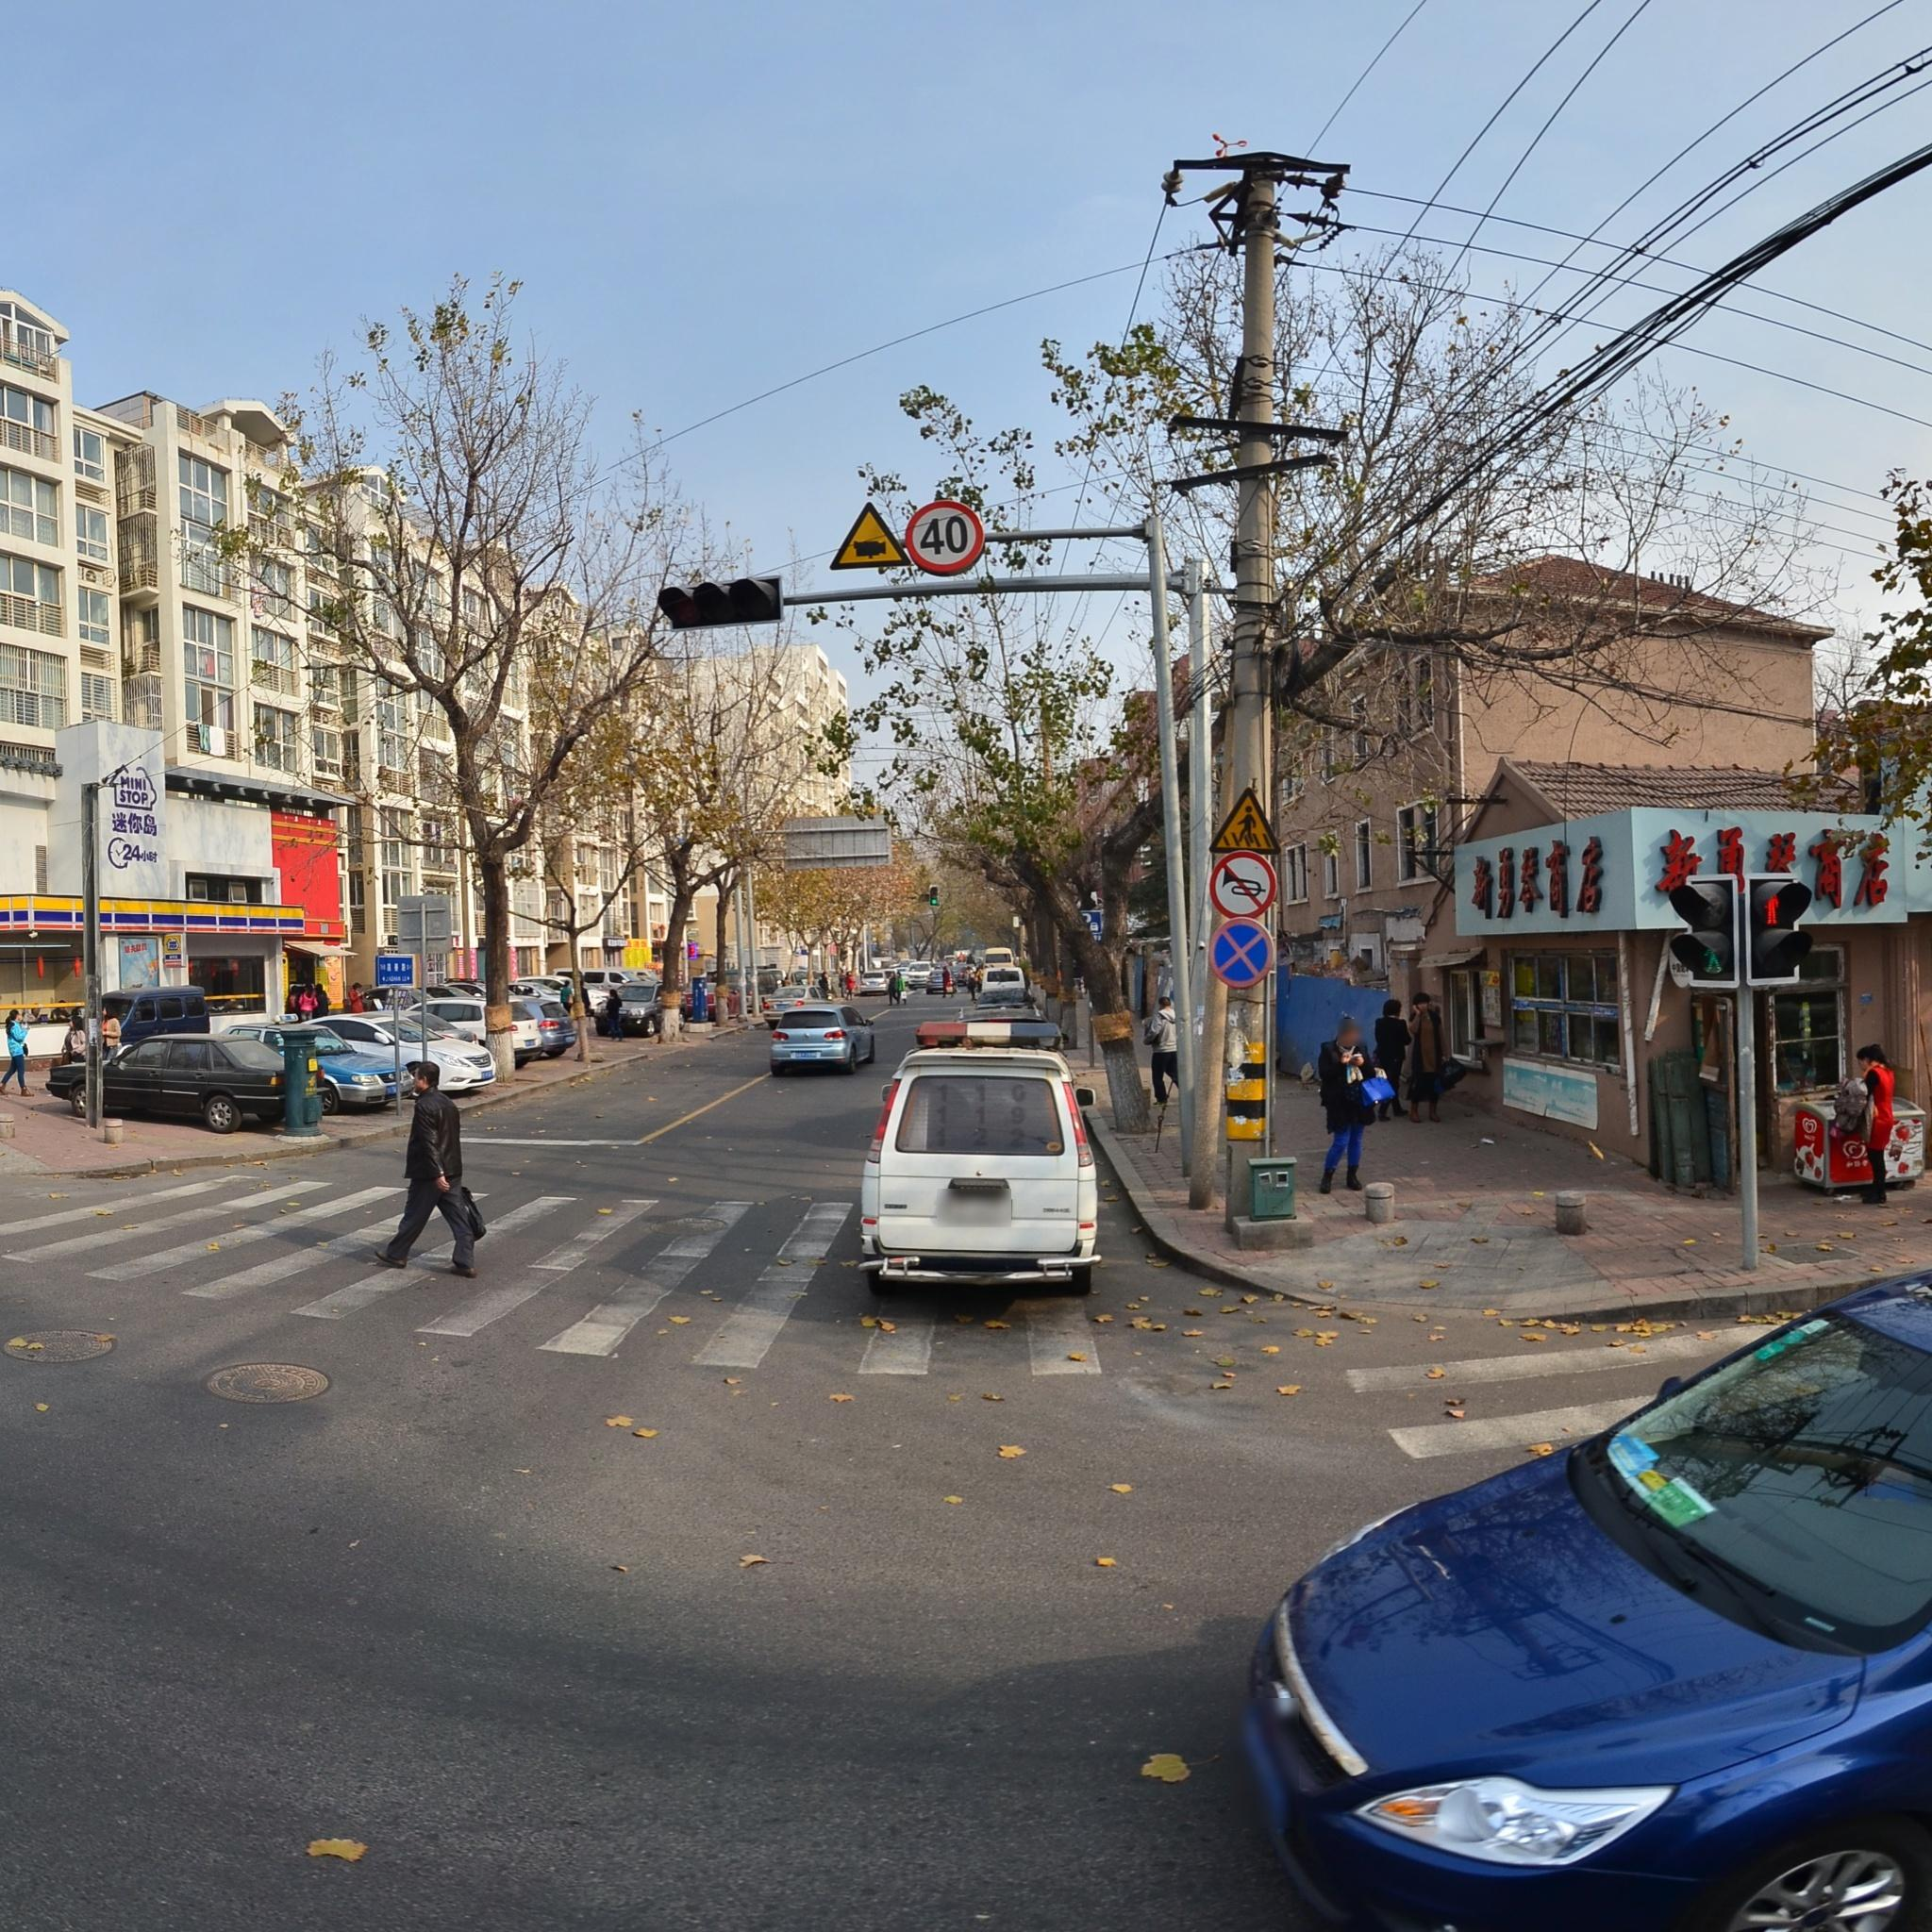p11: (1214, 851, 1274, 922)
pl40: (911, 502, 980, 571)
pn: (1212, 922, 1276, 989)
w57: (1217, 791, 1279, 849)
